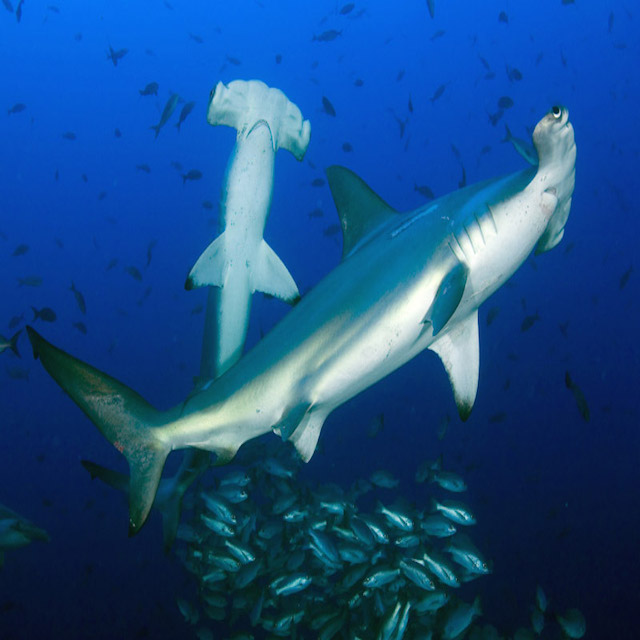hammerhead: (319, 99, 581, 415), (175, 74, 316, 291)
